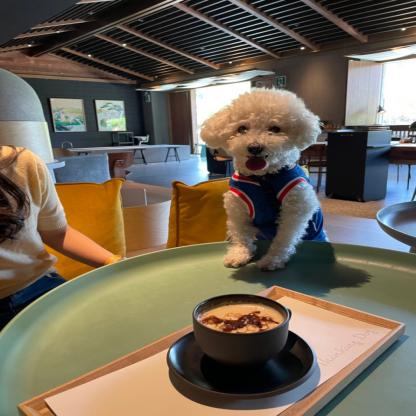dog: (194, 80, 362, 276)
